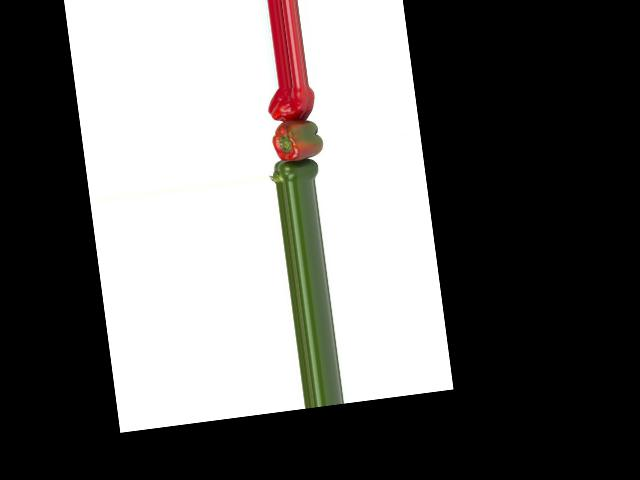bell_pepper: (261, 83, 320, 125)
